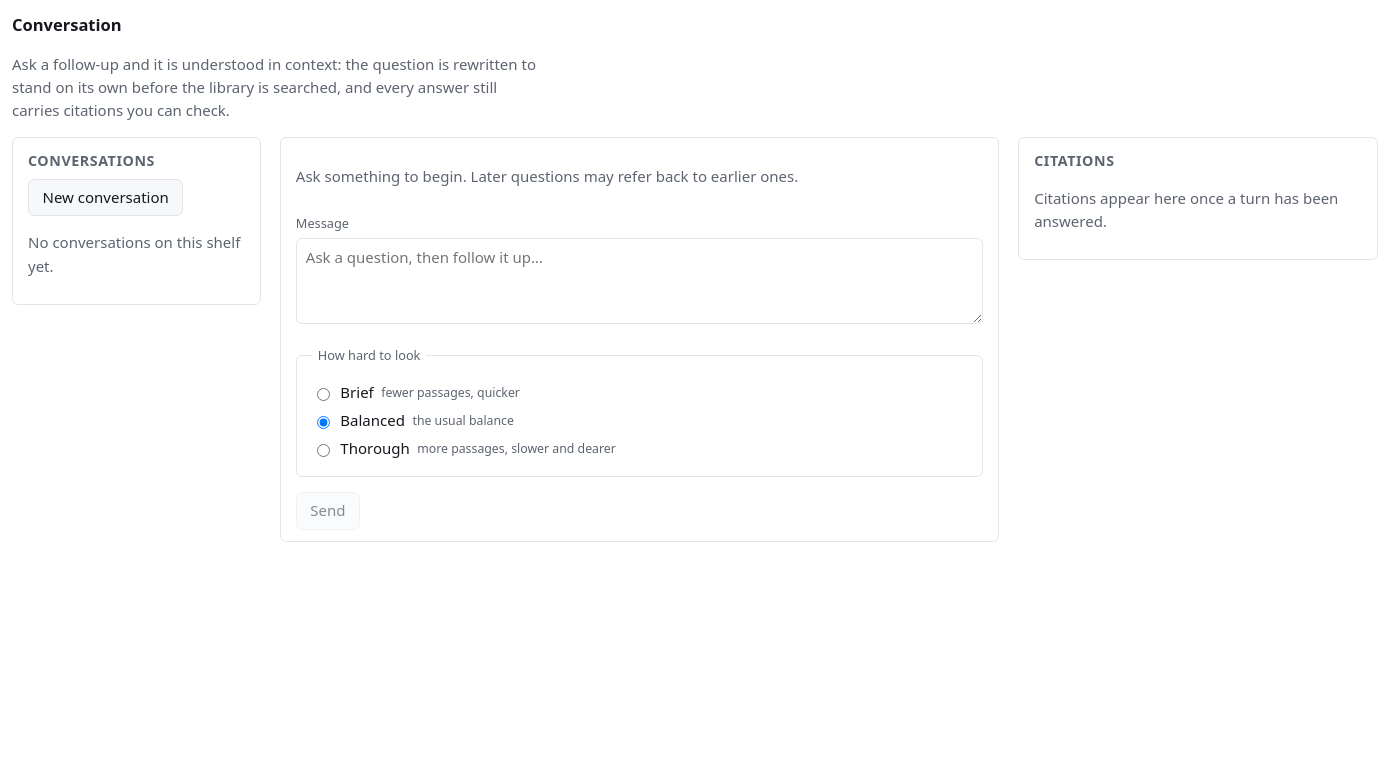
Test: a settled turn › replaces the draft on screen rather than adding to it
This screenshot has width=1378, height=780.
Type "¿?" into the text box at (640, 281), box [296,238,983,324]
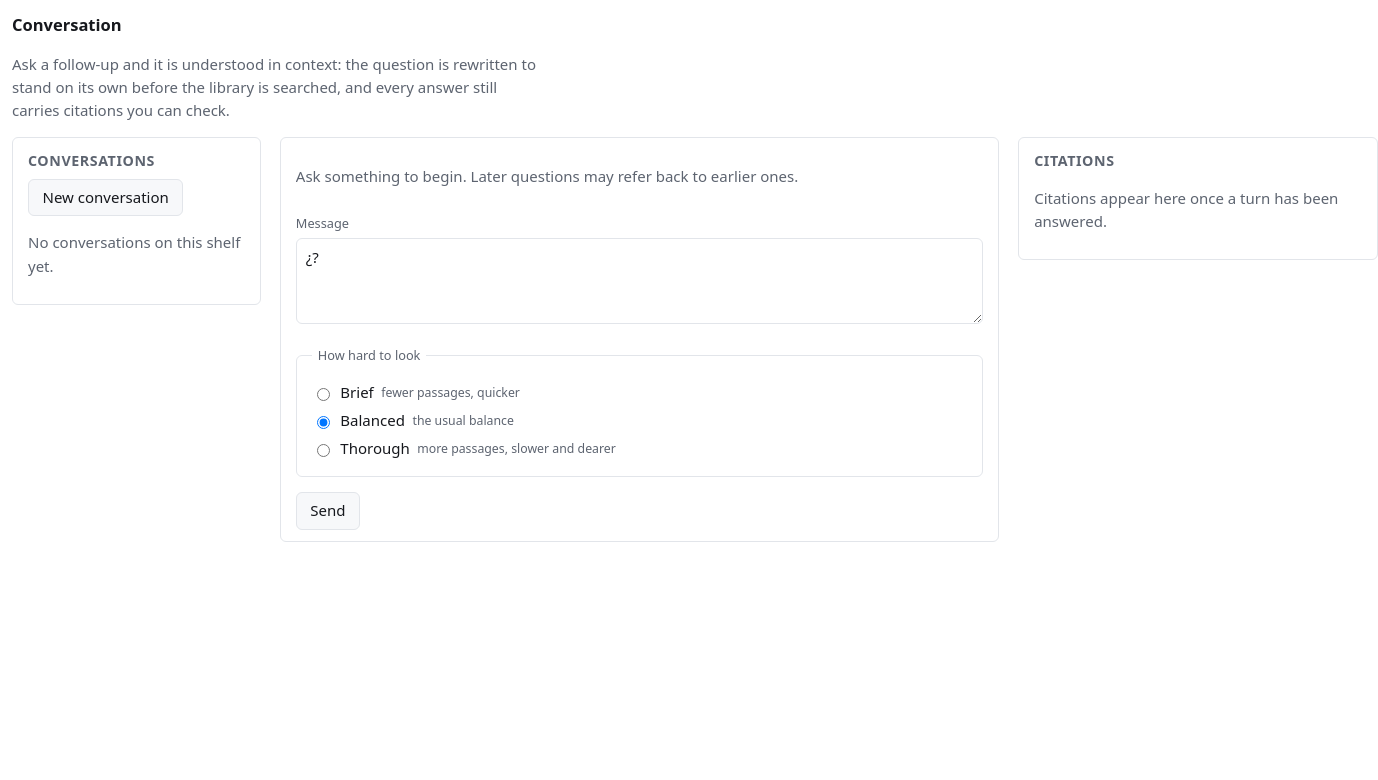
Expected: the button "Send" is enabled
Click the button "Send" at (328, 511), box [296,492,360,530]
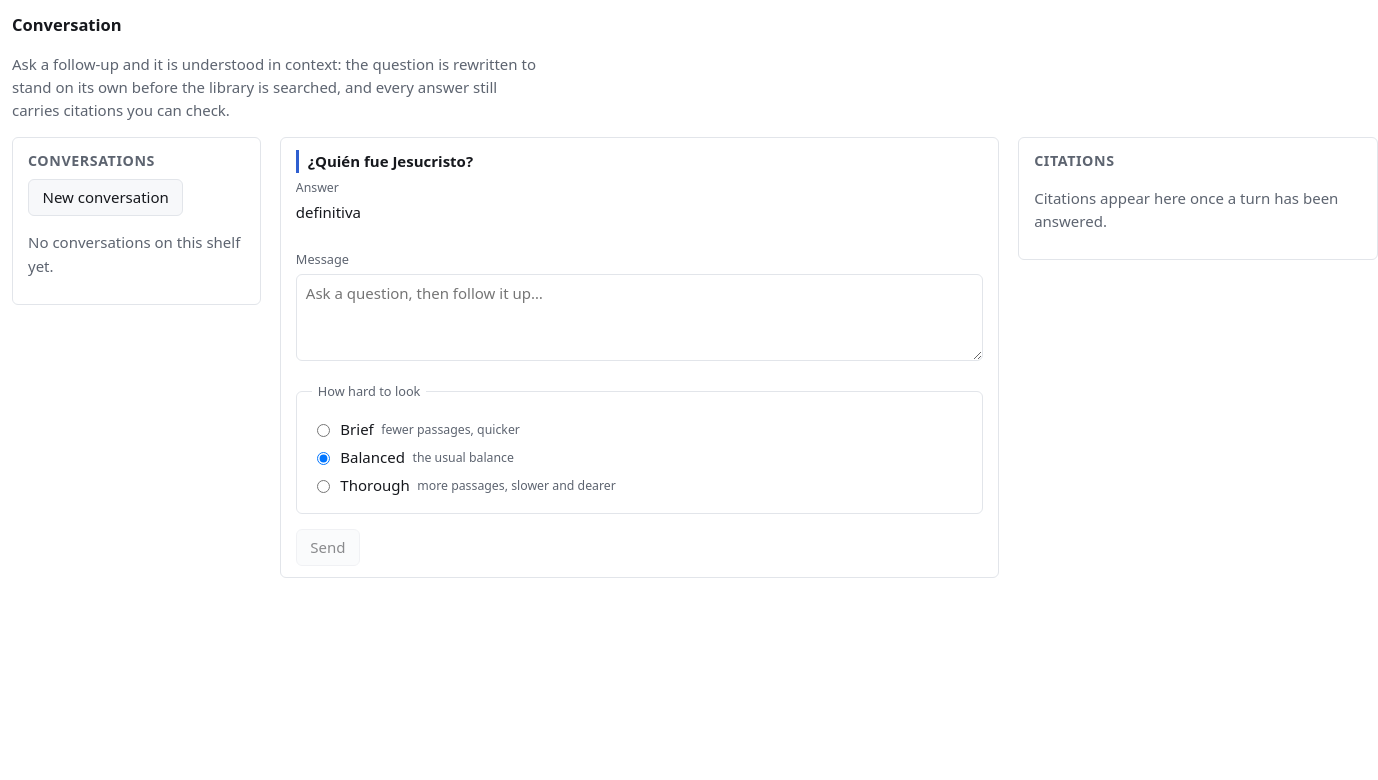
Expected: the text "definitiva" is shown, [296,202,361,222]
